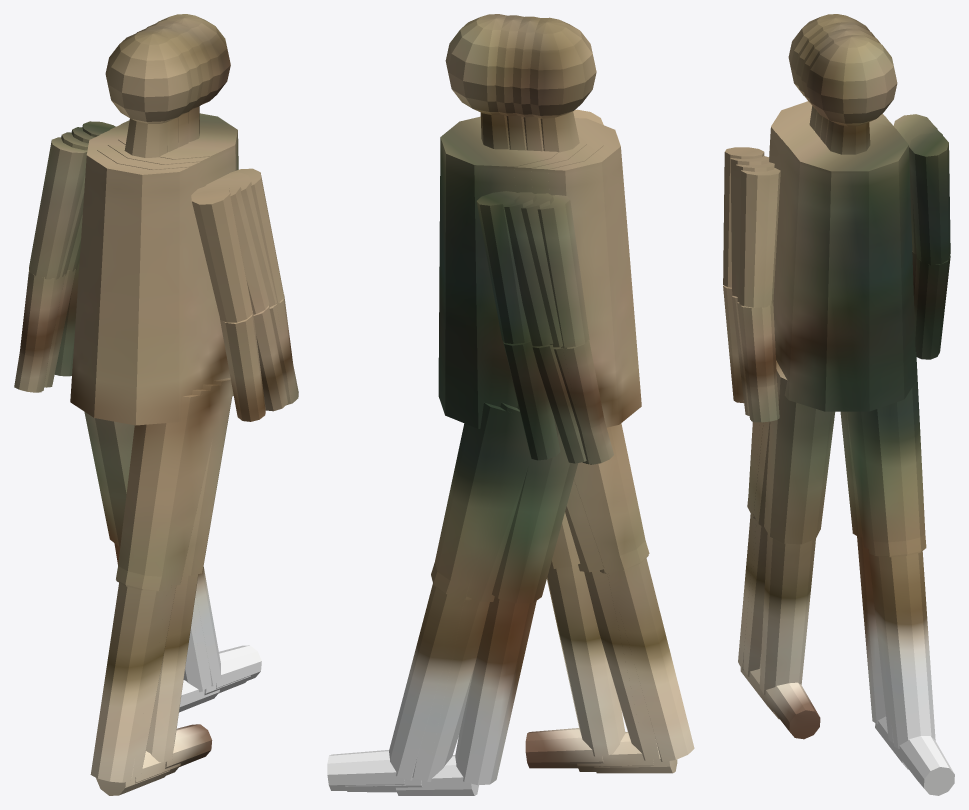
The model's file is loft-walker-far.glb.
3 renders of one model, left to right at view 1: azimuth 30°, elevation 25°; view 2: azimuth 150°, elevation 25°; view 3: azimuth 270°, elevation 25°, orthographic. The views are drawn at different scales.
Visible parts, largest first — view 1: figure2; view 2: figure2; view 3: figure2.
Boxes of the visible parts, x1,y1,x2,y2 form: figure2: (14,14,298,795); figure2: (327,14,694,795); figure2: (723,14,954,795).
Bounding box in the file's own units: 0.6329 × 1.71 × 0.5093.
1 material, 1 textured.
